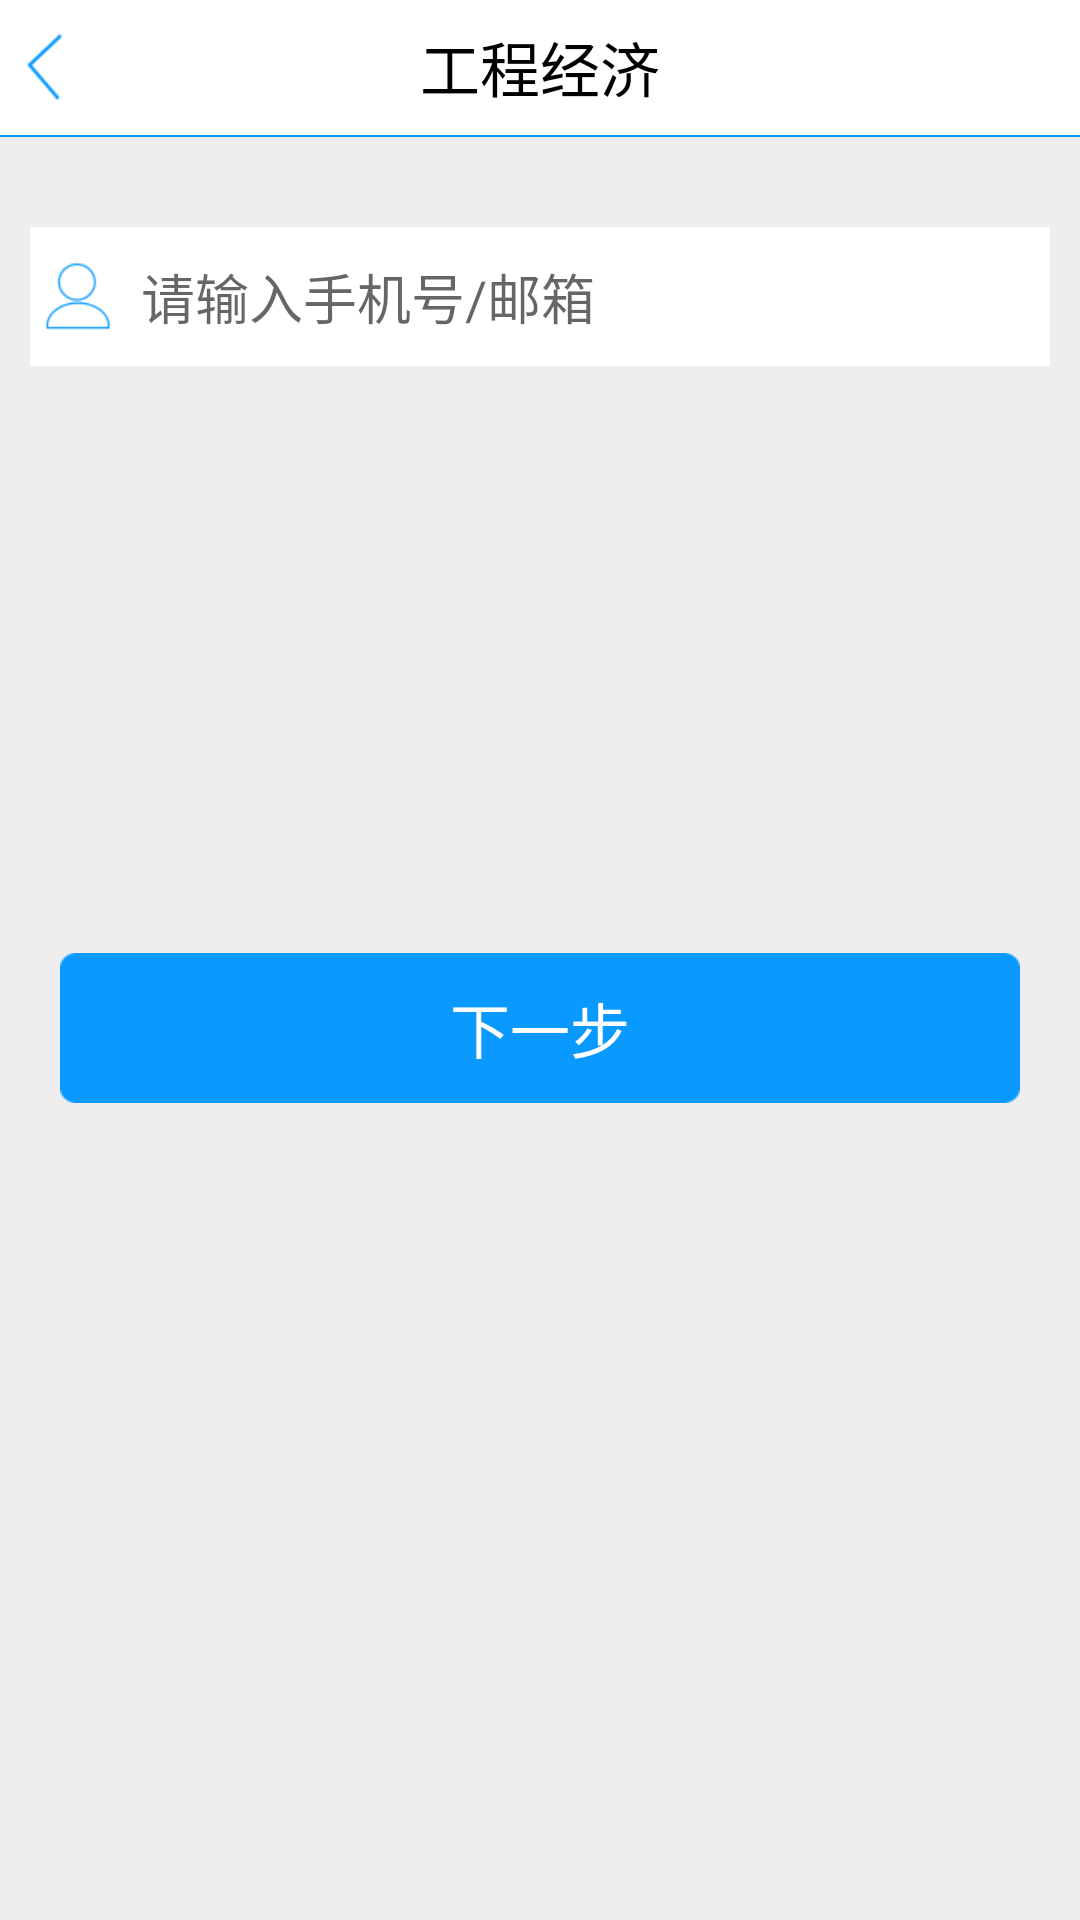

Icon bounding boxes for this 1080x1920 phone screenshot, format {"left": x1, "top": y1, "right": x2, "bottom": y2}:
back: {"left": 27, "top": 34, "right": 62, "bottom": 100}
login username: {"left": 46, "top": 263, "right": 110, "bottom": 330}
